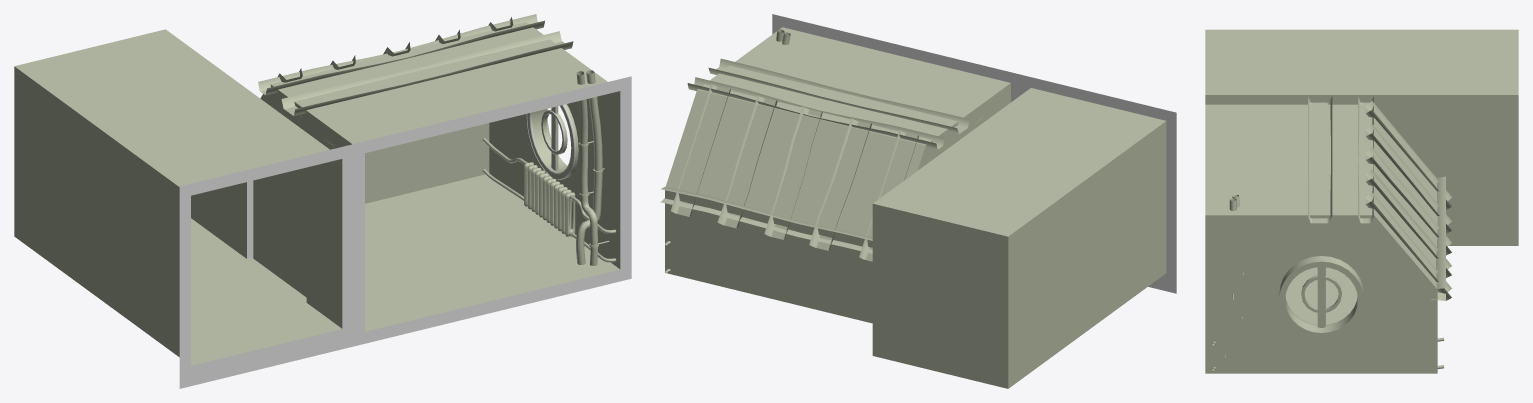
File: Room.fbx
The picture shows the model from 3 angles, left to right: view 1: azimuth 30°, elevation 25°; view 2: azimuth 150°, elevation 25°; view 3: azimuth 270°, elevation 25°; orthographic projection. The views are drawn at different scales.
Visible parts, largest first — view 1: Hall, Floor, Ceiling2, Ceiling1, Floor2, WallR, WallB, Door, Wood_frames, WallL, Pipe_big, Baterry (+3 smaller); view 2: Hall, Ceiling1, Ceiling2, WallB, Wood_frames, WallL; view 3: WallR, Ceiling1, Ceiling2, Hall, Wood_frames, Window_frame, Floor.
Part boxes in pixels (x1=…): Hall: x1=14, y1=66, x2=353, y2=388; Floor: x1=354, y1=174, x2=631, y2=346; Ceiling2: x1=14, y1=29, x2=353, y2=195; Ceiling1: x1=271, y1=22, x2=631, y2=152; Floor2: x1=180, y1=218, x2=353, y2=388; WallR: x1=489, y1=77, x2=631, y2=278; WallB: x1=365, y1=123, x2=489, y2=203; Door: x1=253, y1=167, x2=306, y2=297; Wood_frames: x1=258, y1=14, x2=573, y2=115; WallL: x1=247, y1=84, x2=364, y2=345; Pipe_big: x1=576, y1=70, x2=602, y2=265; Baterry: x1=524, y1=162, x2=575, y2=236; Hall: x1=872, y1=75, x2=1176, y2=388; Ceiling1: x1=665, y1=14, x2=1020, y2=237; Ceiling2: x1=873, y1=74, x2=1175, y2=236; WallB: x1=665, y1=190, x2=872, y2=323; Wood_frames: x1=660, y1=58, x2=969, y2=261; WallL: x1=917, y1=75, x2=1020, y2=170; WallR: x1=1205, y1=215, x2=1437, y2=373; Ceiling1: x1=1205, y1=104, x2=1437, y2=289; Ceiling2: x1=1205, y1=29, x2=1518, y2=94; Hall: x1=1205, y1=95, x2=1518, y2=245; Wood_frames: x1=1308, y1=96, x2=1451, y2=300; Window_frame: x1=1279, y1=256, x2=1363, y2=338; Floor: x1=1285, y1=267, x2=1357, y2=324.
Bounding box in the file's own units: 7.98 × 3.4 × 5.38.
